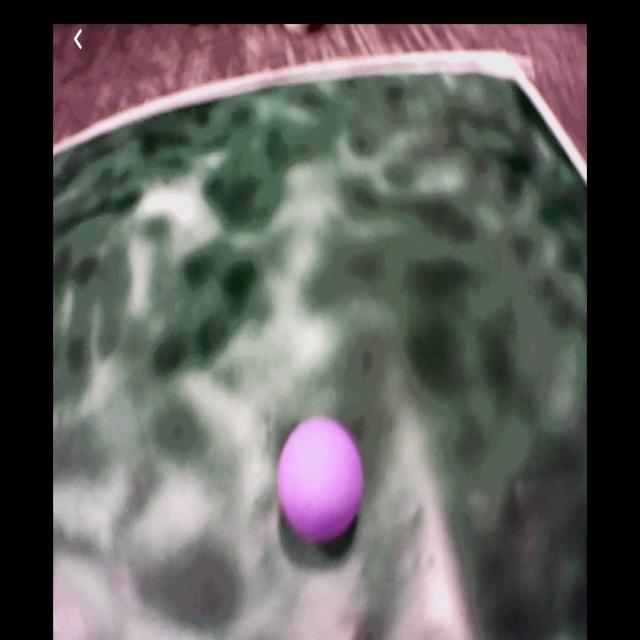ball: (277, 419, 366, 541)
